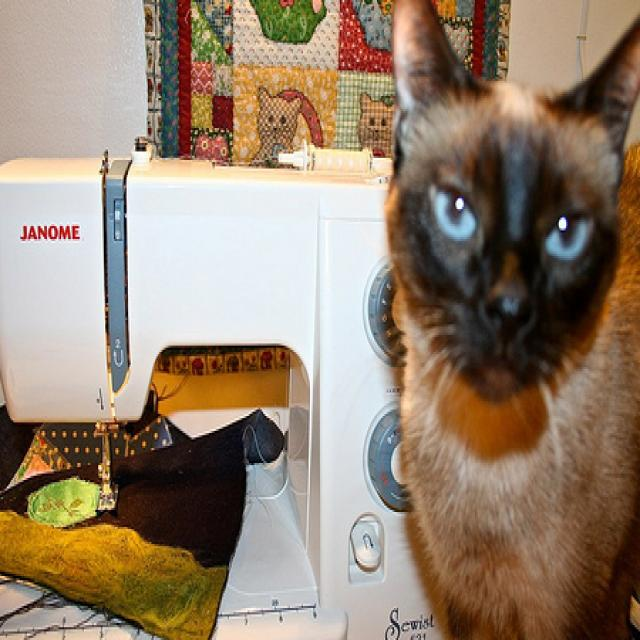Siamese: (381, 0, 640, 640)
